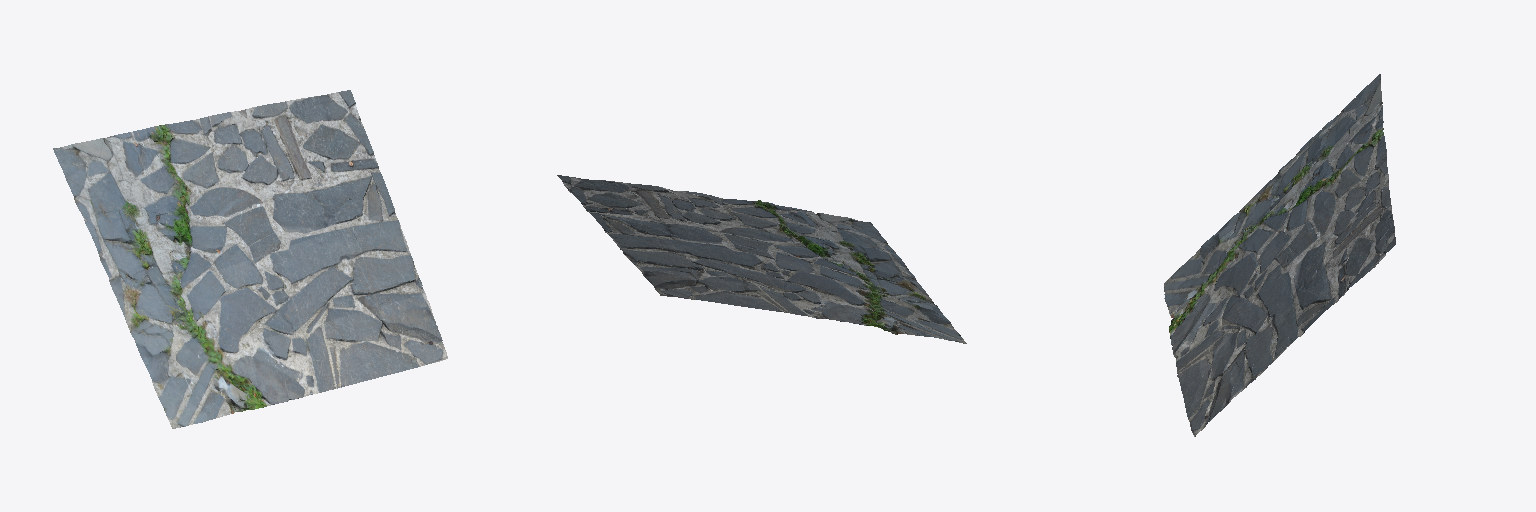
The picture shows the model from 3 angles: view 1: azimuth 30°, elevation 25°; view 2: azimuth 150°, elevation 25°; view 3: azimuth 270°, elevation 25°; orthographic projection.
Bounding box in the file's own units: 3.05 × 2.06 × 2.01.
1 materials, 1 textured.